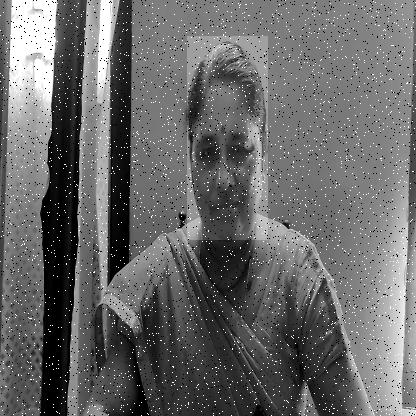Normal: (187, 36, 268, 240)
